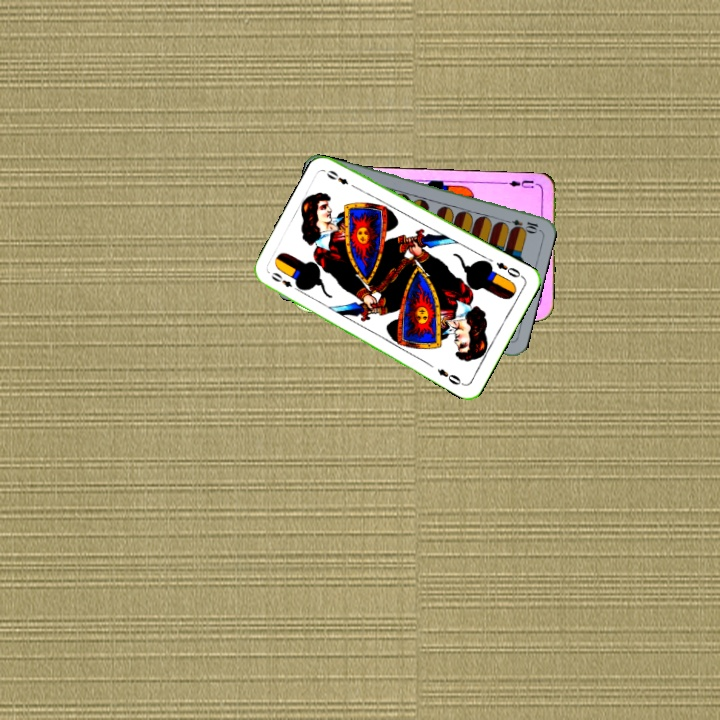E10: (500, 215, 540, 234)
EO: (267, 268, 303, 294), (492, 258, 526, 280)
EU: (501, 176, 536, 191)
